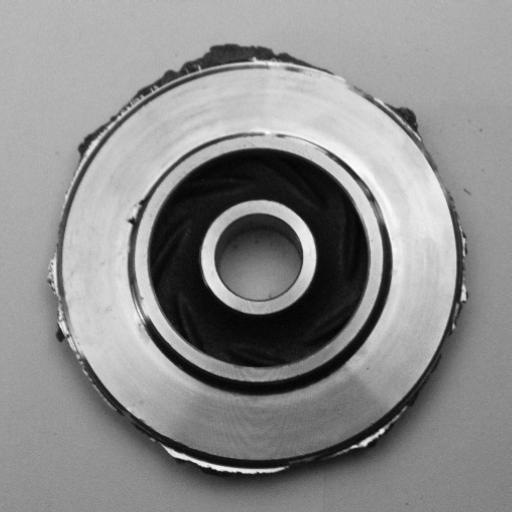casting_with_burr: (42, 40, 475, 482)
crack: (120, 196, 150, 236)
scratch: (258, 126, 335, 156), (128, 275, 154, 343)
